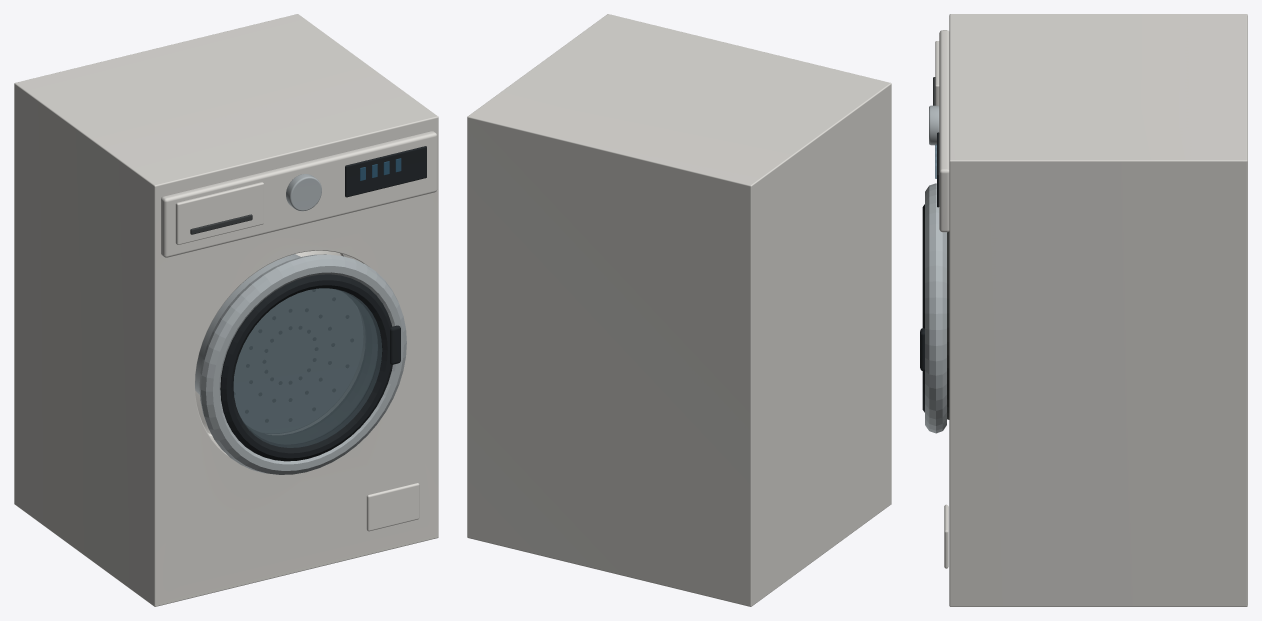
The model's file is washingMachine.glb.
3 renders of one model, left to right at view 1: azimuth 30°, elevation 25°; view 2: azimuth 150°, elevation 25°; view 3: azimuth 270°, elevation 25°, orthographic. The views are drawn at different scales.
Visible parts, largest first — view 1: LG_frontloader_chassis, Smoked_round_porthole, Stainless_drum, Door_outer_chrome_ring, Upper_control_fascia, Door_black_inner_rim, Detergent_drawer_front, Digital_control_display, Fixed_rubber_bellows, Lower_service_hatch, Programme_knob; view 2: LG_frontloader_chassis; view 3: LG_frontloader_chassis, Door_outer_chrome_ring, Upper_control_fascia, Fixed_rubber_bellows, Door_black_inner_rim.
Boxes of the visible parts, x1,y1,x2,y2 form: LG_frontloader_chassis: [14, 14, 438, 606]; Smoked_round_porthole: [233, 288, 382, 447]; Stainless_drum: [195, 254, 362, 433]; Door_outer_chrome_ring: [199, 254, 406, 474]; Upper_control_fascia: [161, 131, 437, 257]; Door_black_inner_rim: [220, 274, 392, 461]; Detergent_drawer_front: [175, 182, 263, 244]; Digital_control_display: [345, 146, 426, 197]; Fixed_rubber_bellows: [248, 293, 376, 443]; Lower_service_hatch: [366, 483, 419, 531]; Programme_knob: [286, 174, 321, 211]; LG_frontloader_chassis: [467, 14, 891, 606]; LG_frontloader_chassis: [949, 14, 1247, 606]; Door_outer_chrome_ring: [925, 183, 946, 433]; Upper_control_fascia: [939, 30, 949, 232]; Fixed_rubber_bellows: [947, 231, 949, 419]; Door_black_inner_rim: [922, 204, 924, 412].
Bounding box in the file's own units: 0.6 × 0.85 × 0.565.
